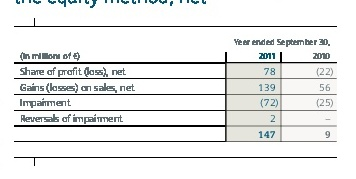table: (0, 0, 356, 179)
